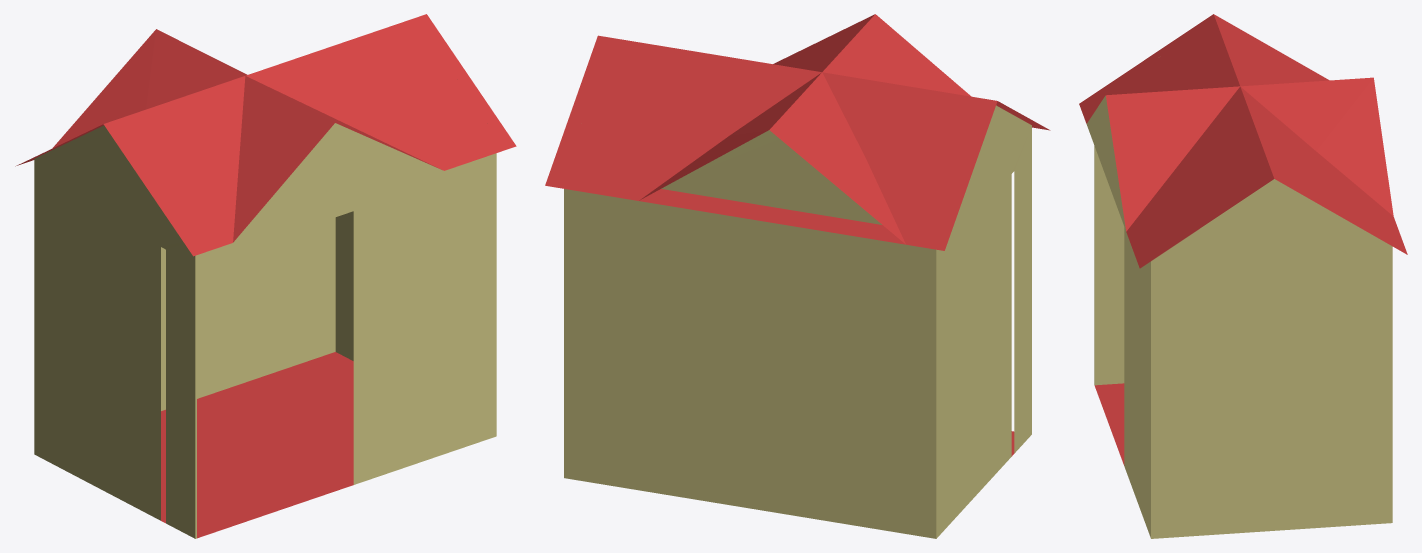
3 renders of one model, left to right at view 1: azimuth 30°, elevation 25°; view 2: azimuth 150°, elevation 25°; view 3: azimuth 270°, elevation 25°, orthographic. The views are drawn at different scales.
Bounding box in the file's own units: 16.04 × 12.21 × 14.65.
